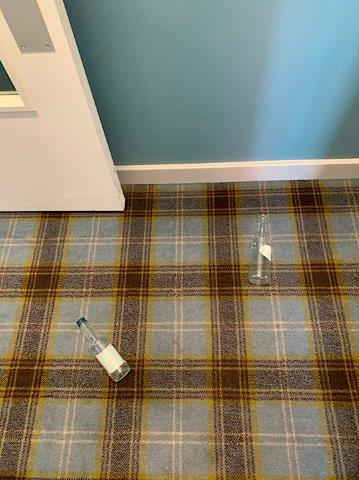botolkaca: (78, 318, 129, 381), (249, 215, 271, 284)
